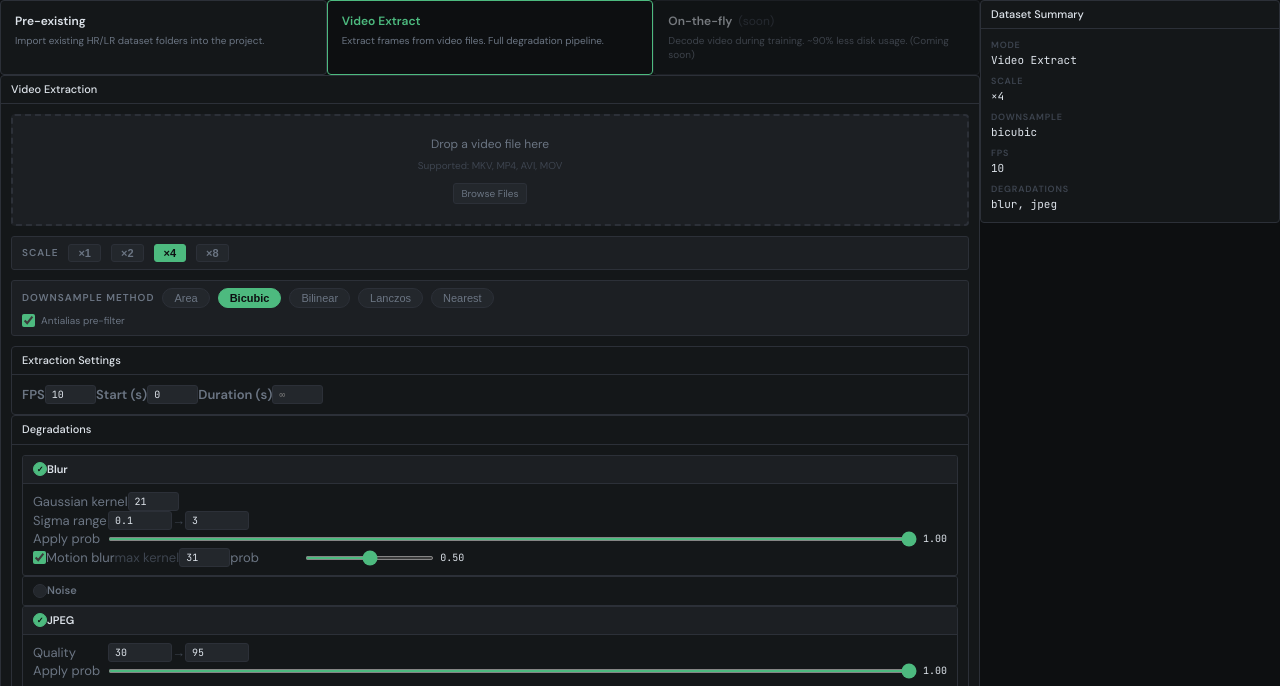
Test: ScreenDatasetCreate › selects a single video file via the dialog and shows one file row
Click the button "Browse Files" at (490, 194), box [452,183,528,204]
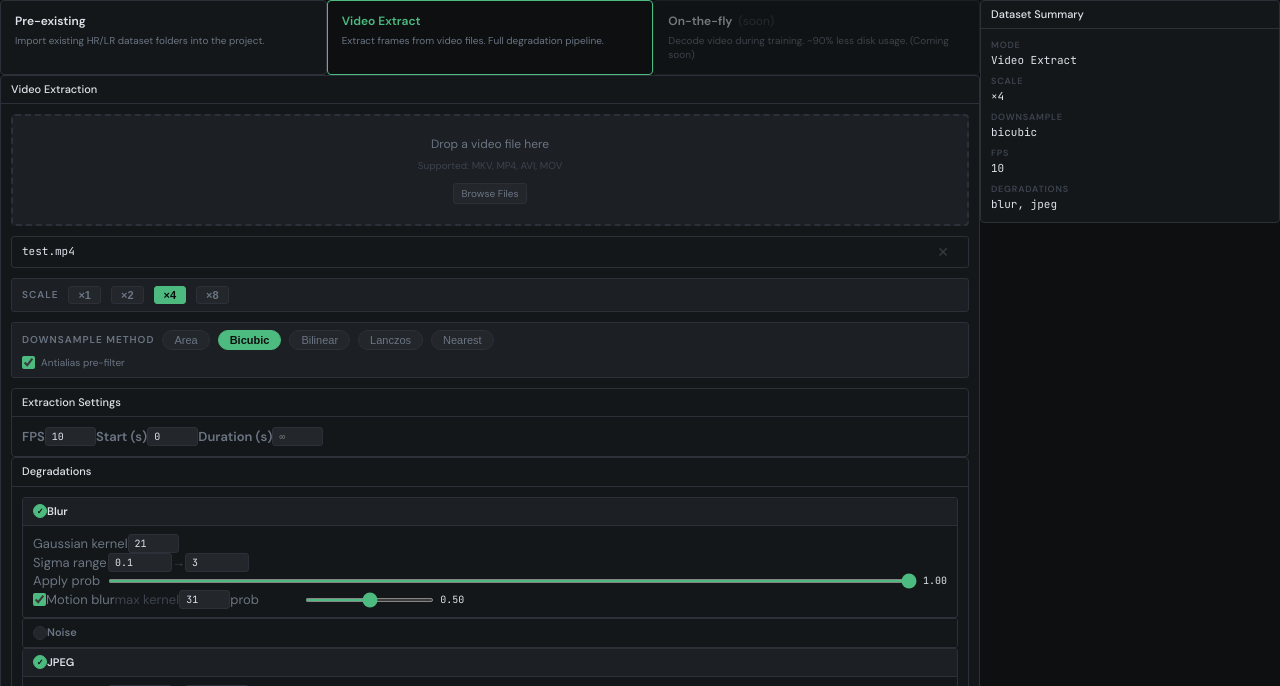
Now the text "test.mp4" is shown, box [22,244,75,258]
